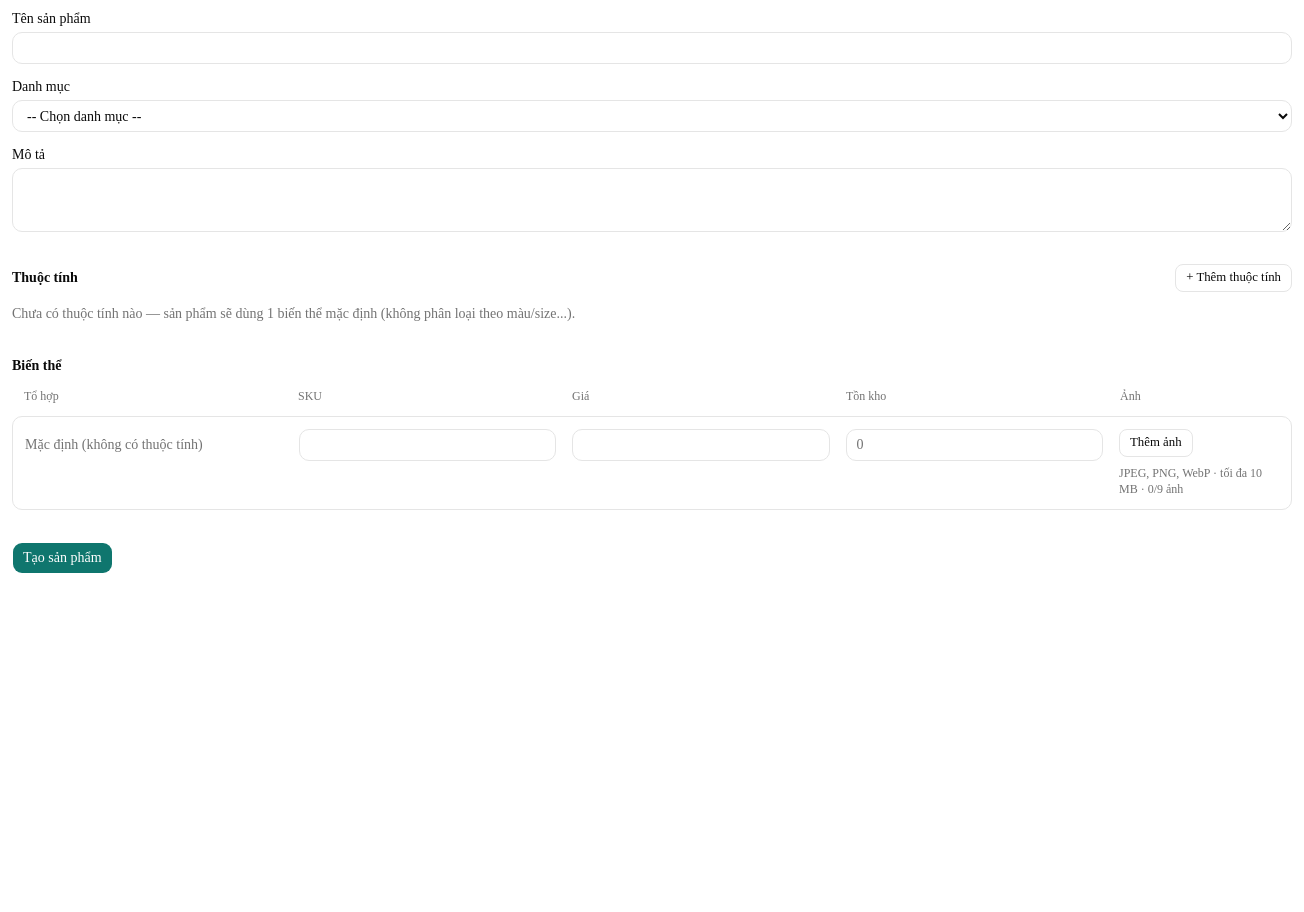
it: ProductForm › thêm 1 attribute với 2 giá trị sinh đúng 2 dòng variant
Click the button "+ Thêm thuộc tính" at (1234, 278), box [1175,264,1292,292]
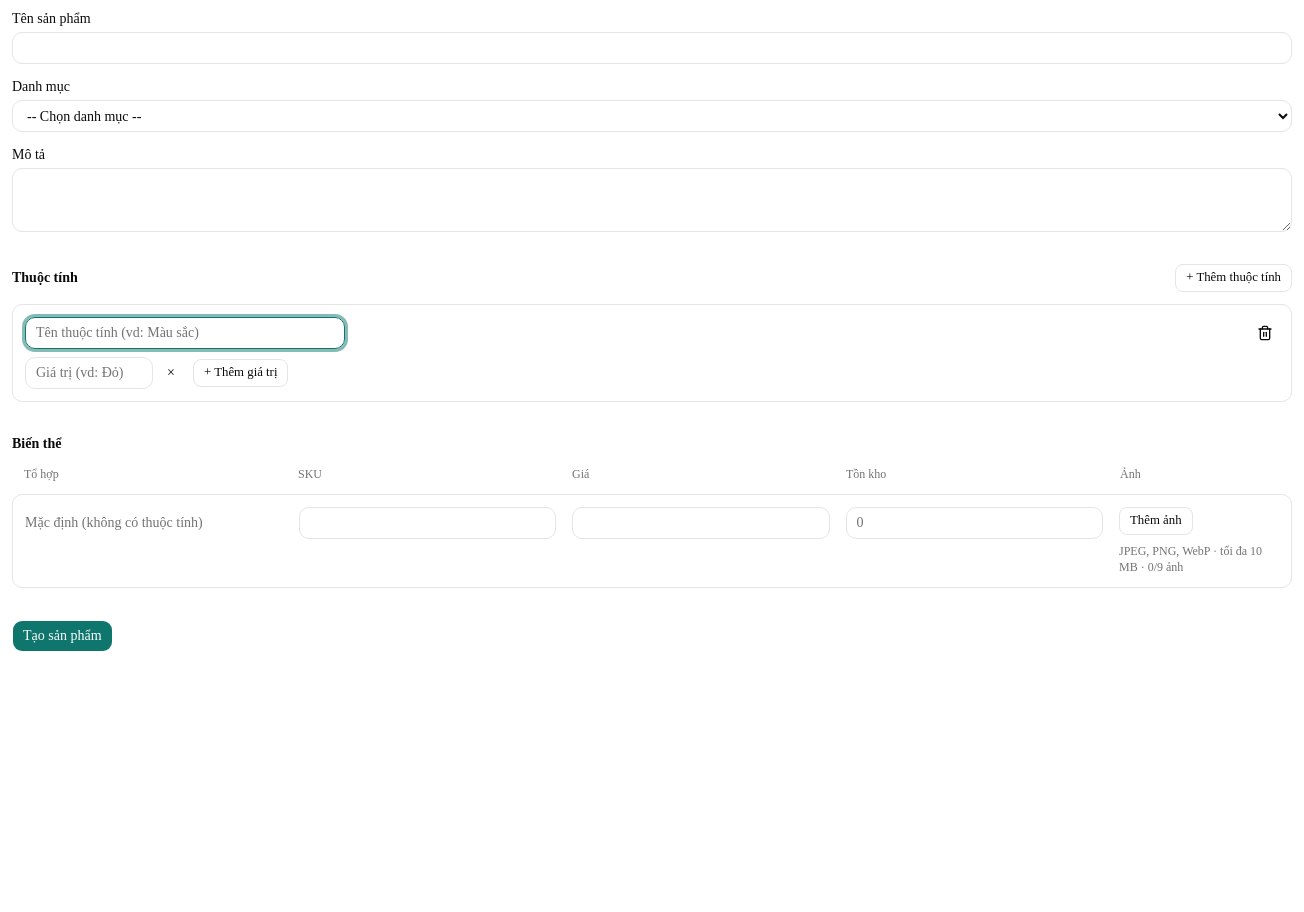
Type "Màu sắc" into the field with placeholder "Tên thuộc tính (vd: Màu sắc)" at (185, 333), box [25,317,345,349]
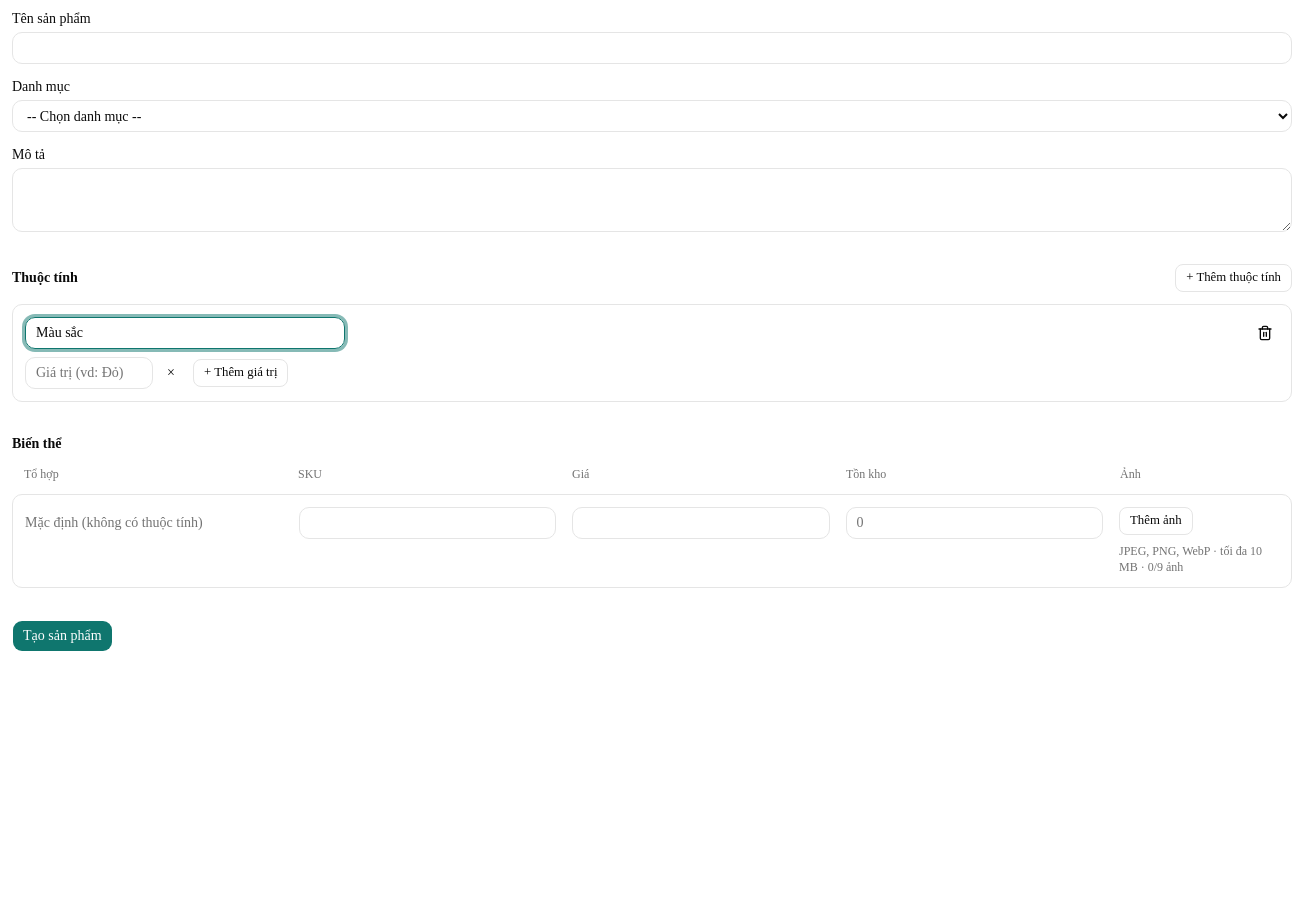
Type "Đỏ" into the field with placeholder "Giá trị (vd: Đỏ)" at (89, 373), box [25,357,153,389]
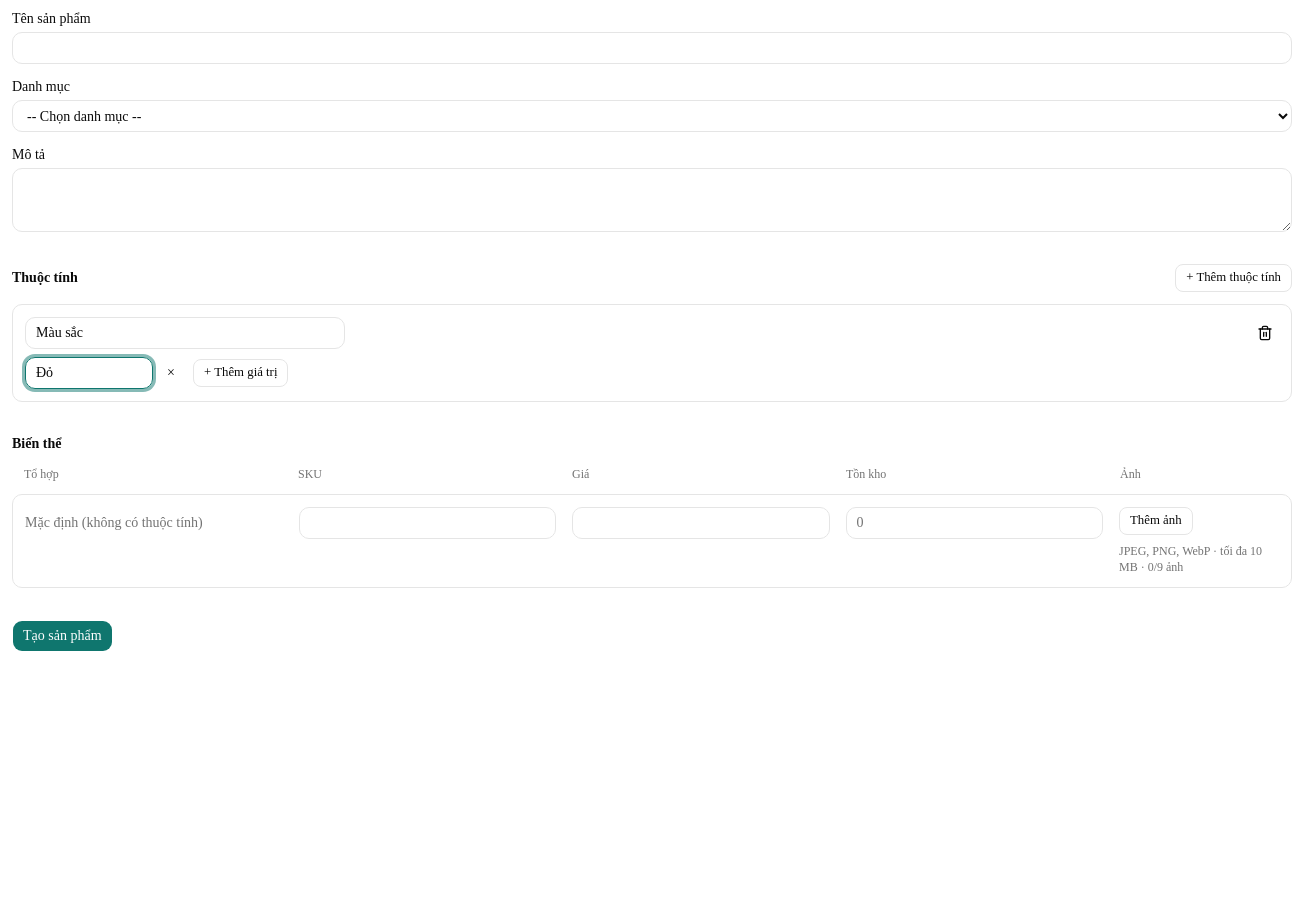
Click the button "+ Thêm giá trị" at (241, 373), box [193,359,288,387]
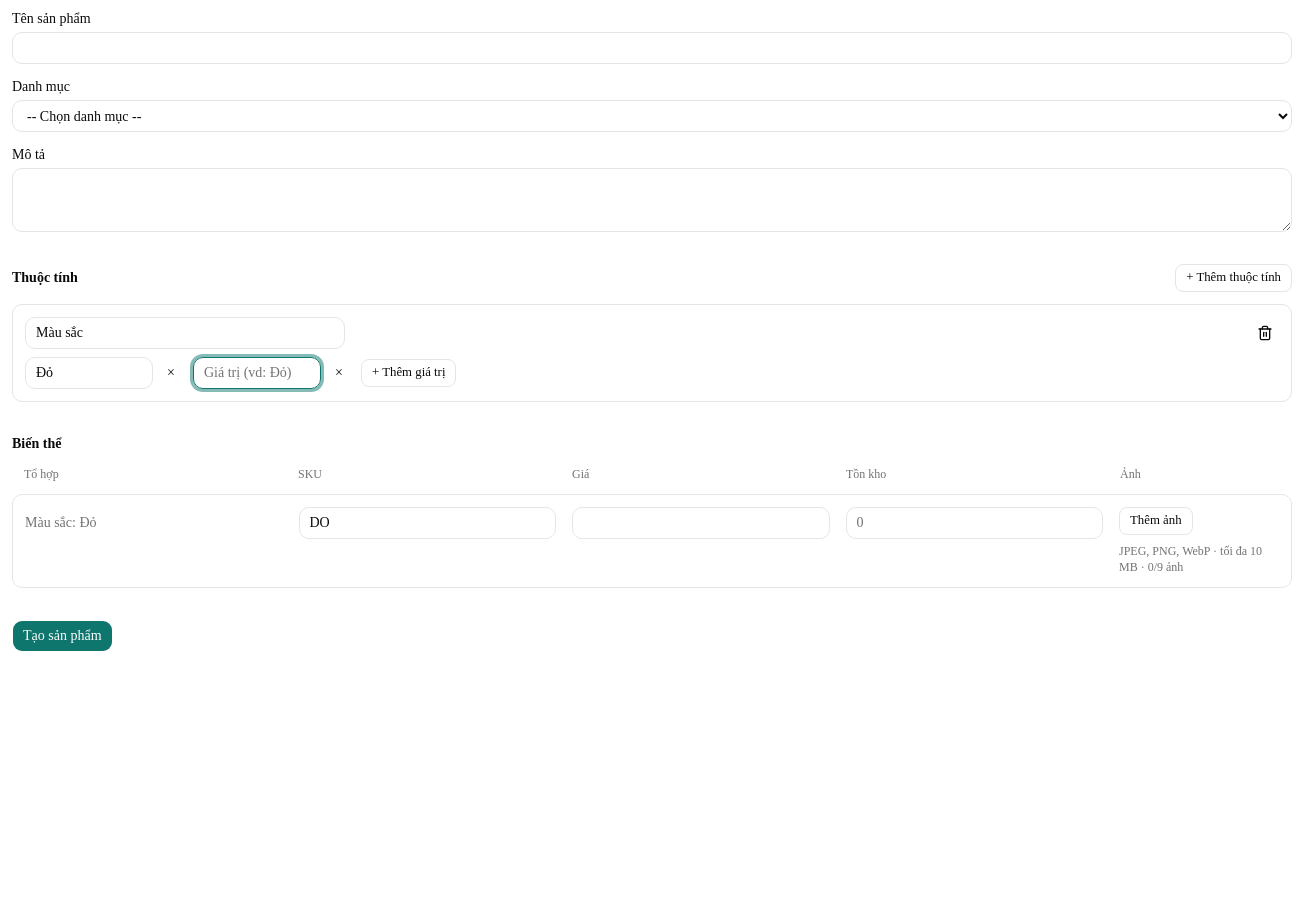
Type "Xanh" into the field with placeholder "Giá trị (vd: Đỏ)" at (257, 373), box [193,357,321,389]
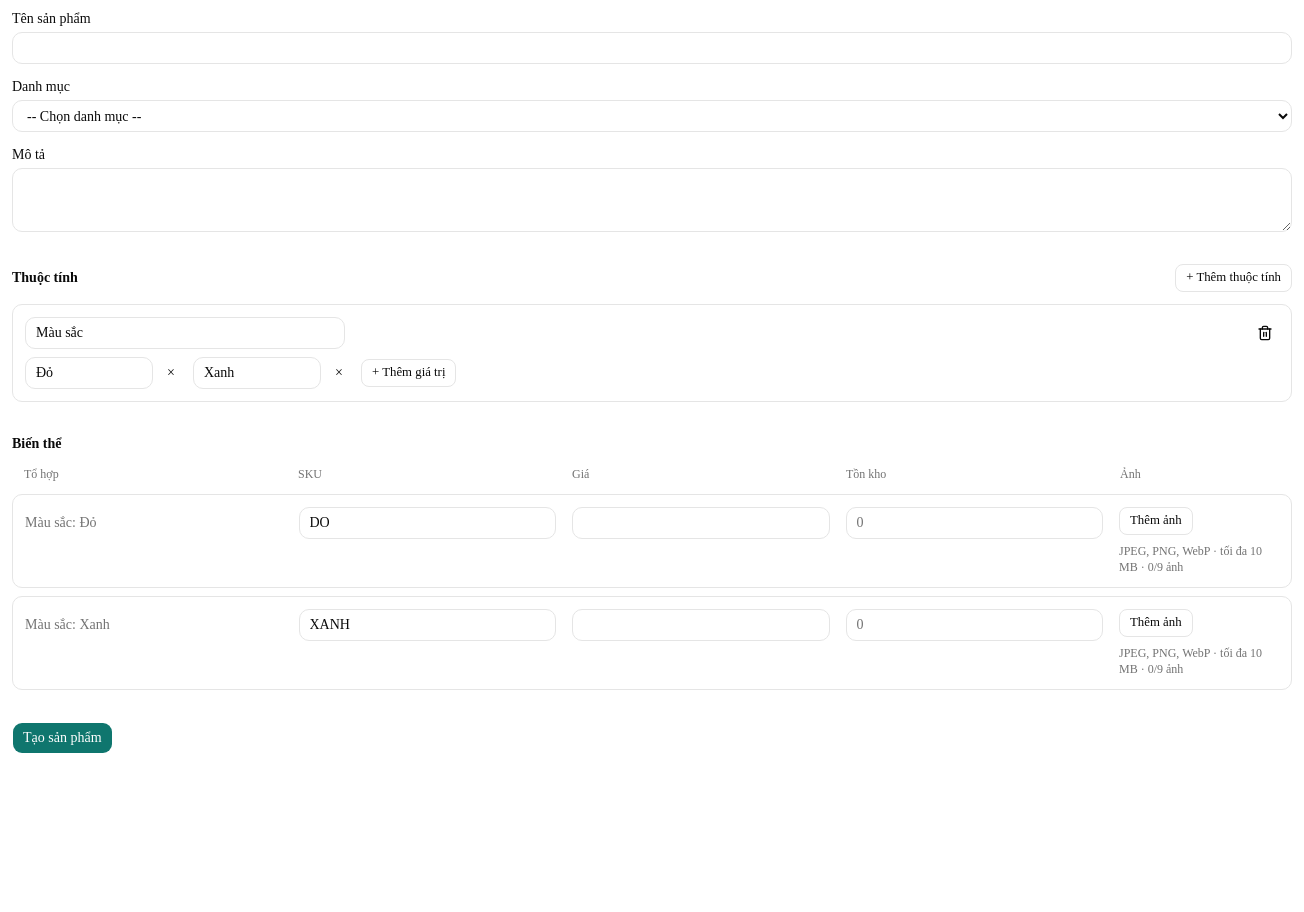
Expected: the number of fields named "SKU" is 2, [298,507,556,539]; [298,609,556,641]
Now the text "Màu sắc: Đỏ" is shown, box [25,515,96,530]
Now the text "Màu sắc: Xanh" is shown, box [25,617,110,632]
